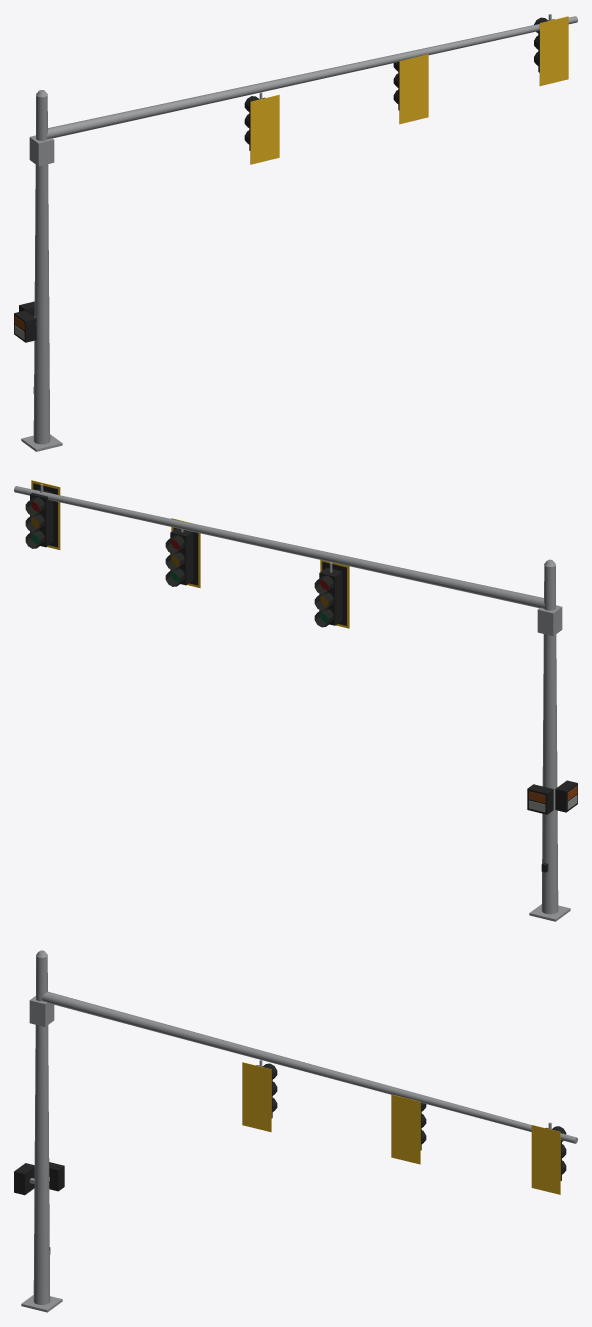
Rendered from traffic_signal_mast_12p2.glb.
The picture shows the model from 3 angles, top to bottom: view 1: azimuth 30°, elevation 25°; view 2: azimuth 150°, elevation 25°; view 3: azimuth 330°, elevation 25°; orthographic projection.
Visible parts, largest first — view 1: traffic_signal_pole-col, signal_head_1, signal_head_3, signal_head_2; view 2: traffic_signal_pole-col, signal_head_1, signal_head_3, signal_head_2; view 3: traffic_signal_pole-col, signal_head_1, signal_head_3, signal_head_2, ped_head_2.
Part boxes in pixels (left/top/right/bottom): traffic_signal_pole-col: left=21, top=16, right=577, bottom=451; signal_head_1: left=244, top=92, right=279, bottom=164; signal_head_3: left=534, top=14, right=568, bottom=86; signal_head_2: left=393, top=54, right=428, bottom=124; traffic_signal_pole-col: left=14, top=486, right=570, bottom=921; signal_head_1: left=314, top=560, right=349, bottom=628; signal_head_3: left=25, top=480, right=60, bottom=549; signal_head_2: left=165, top=518, right=200, bottom=588; traffic_signal_pole-col: left=21, top=950, right=577, bottom=1312; signal_head_1: left=242, top=1060, right=277, bottom=1131; signal_head_3: left=531, top=1122, right=566, bottom=1194; signal_head_2: left=391, top=1094, right=426, bottom=1164; ped_head_2: left=14, top=1163, right=34, bottom=1195.
Bounding box in the file's own units: 12.71 × 7.68 × 0.815.
